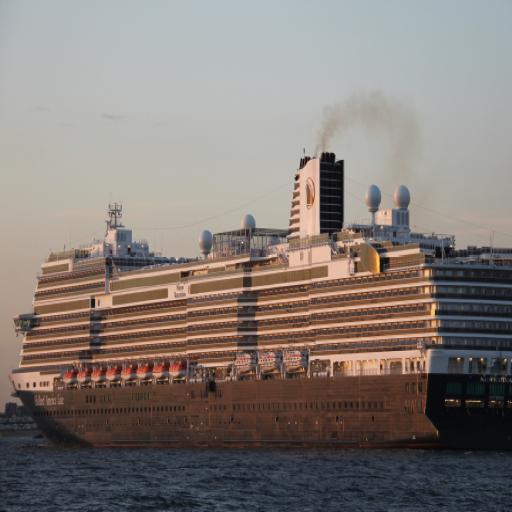cruises: (5, 148, 512, 457)
